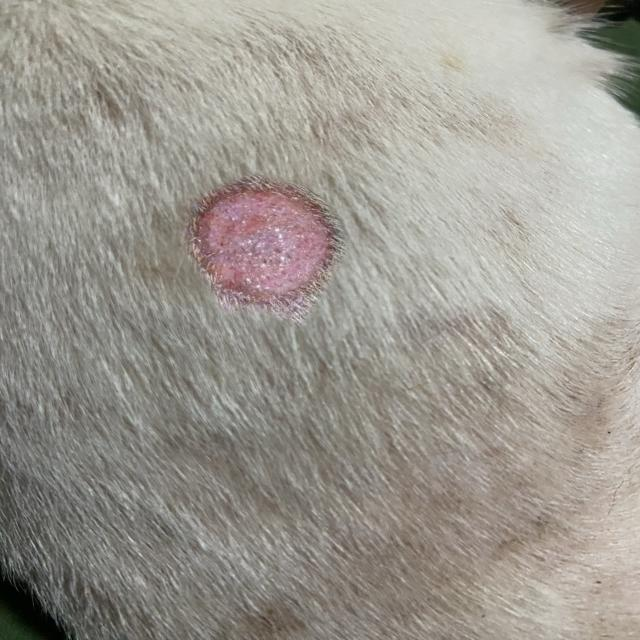ringworm: (157, 172, 372, 315)
